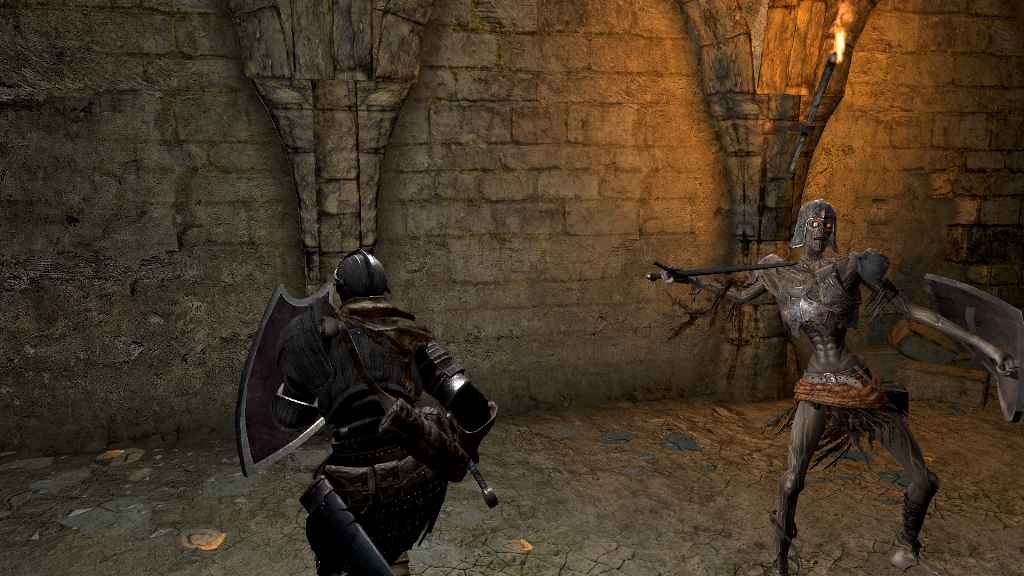player: (233, 246, 499, 576)
undeadSoldier: (660, 198, 1014, 576)
